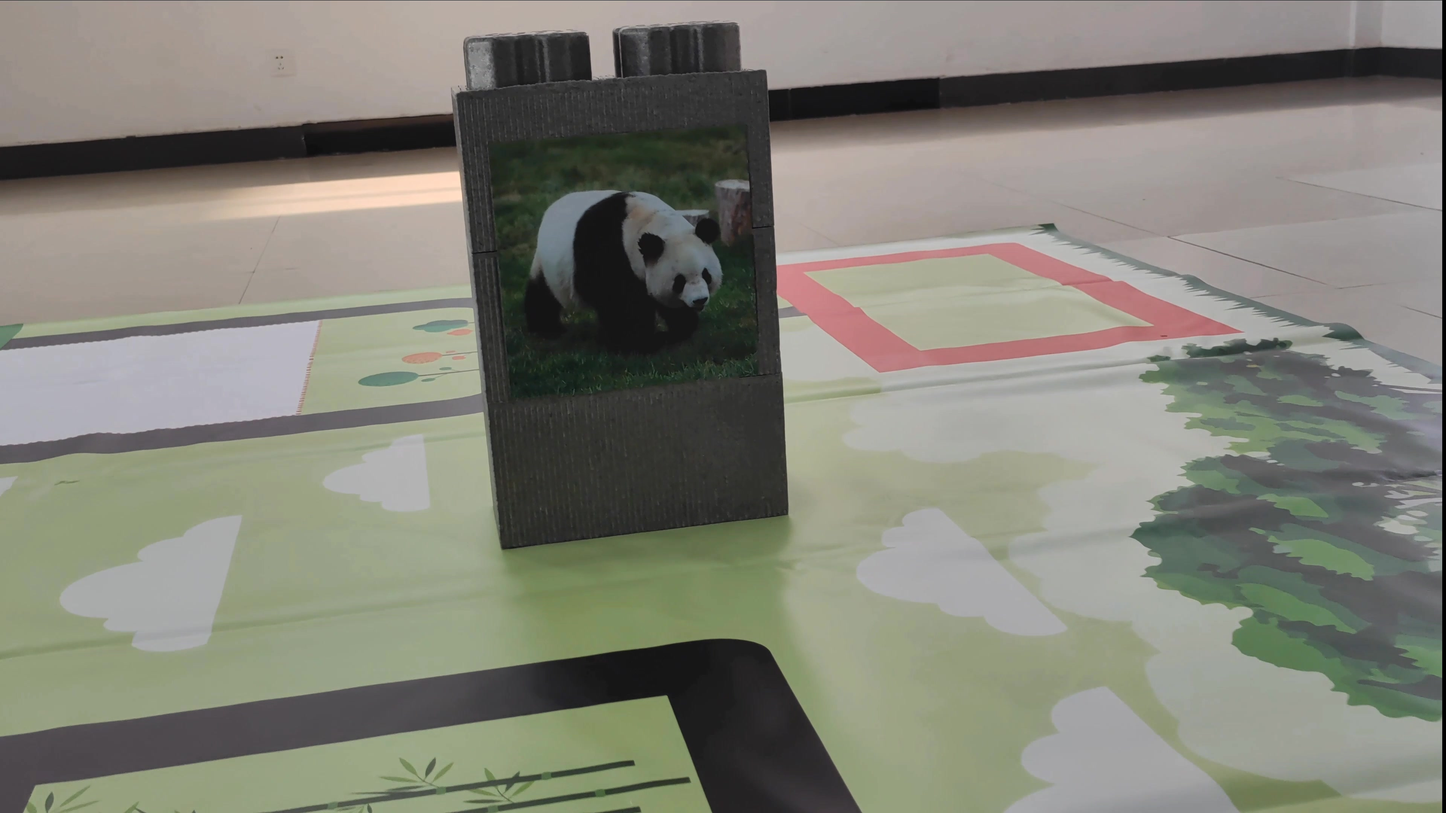panda: (503, 177, 735, 355)
